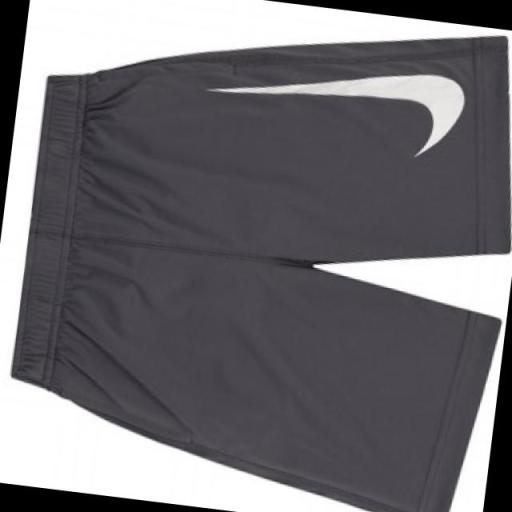Nike: (195, 34, 472, 169)
